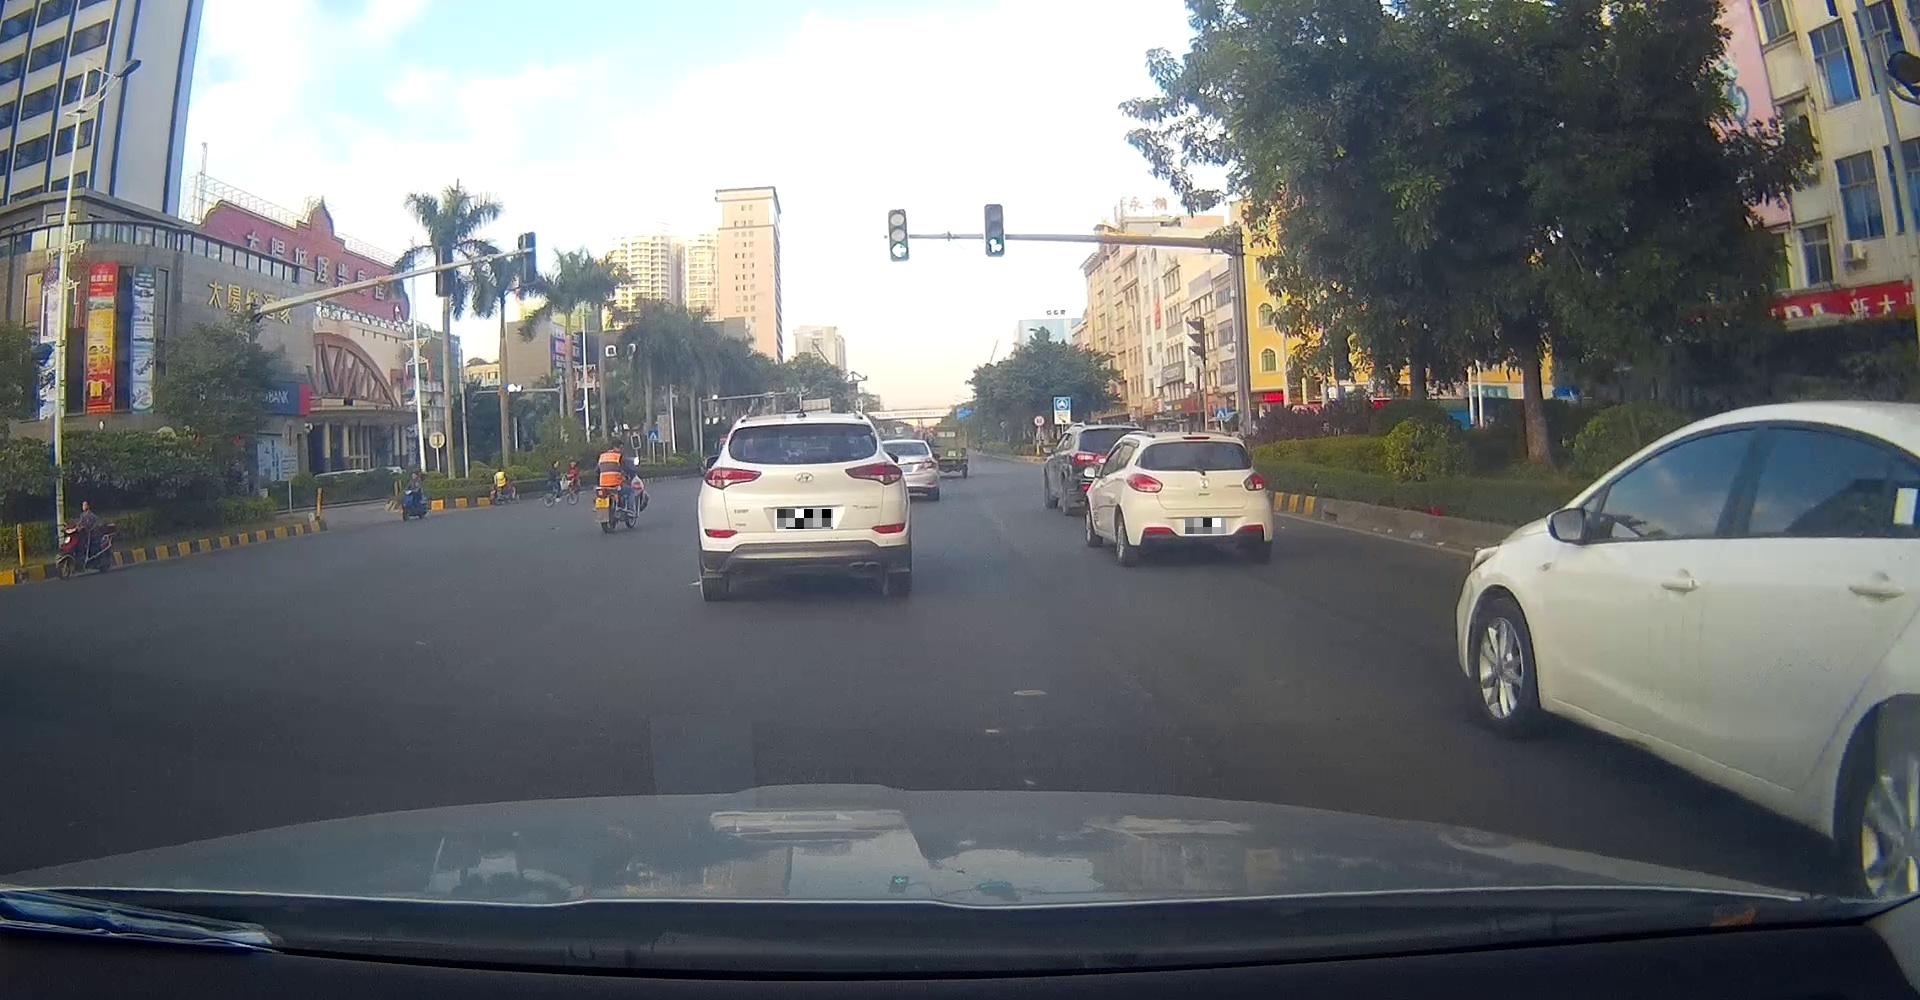L_light: (703, 467, 761, 490), (1126, 473, 1163, 492)
R_light: (844, 461, 903, 485), (1243, 470, 1267, 492)
T_light: (786, 423, 819, 430), (1182, 435, 1210, 440)
day-no: (698, 412, 910, 602), (1125, 431, 1272, 565)
plate_1: (777, 509, 833, 529)
plate_2: (1185, 518, 1225, 534)
